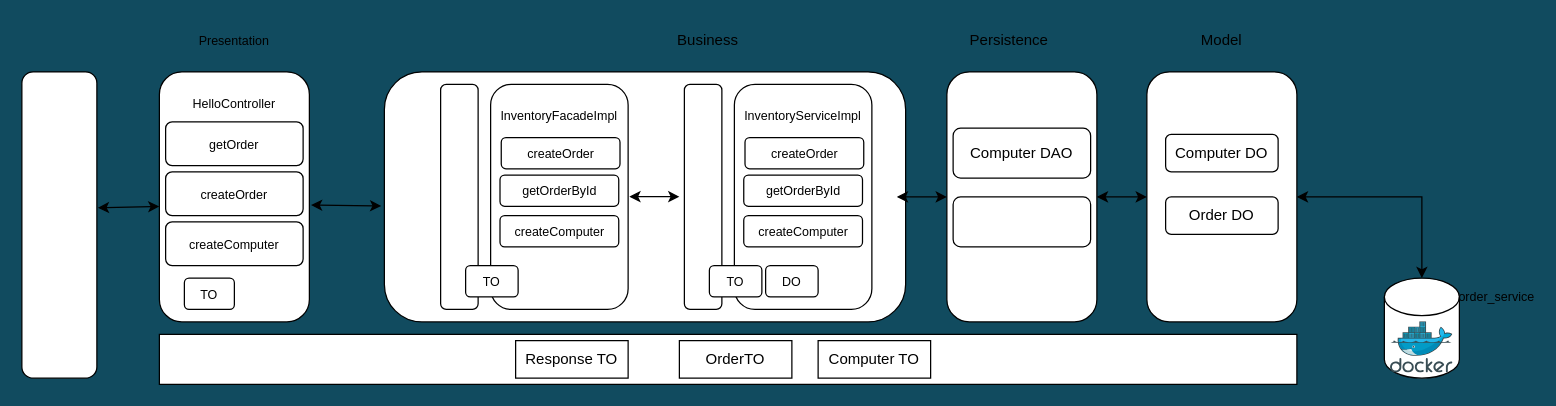
Some shapes in this 1556 by 406 pixel diagram are drawn without their labels. The centre of each missing label's shape, as x and y in pixels:
"IInventoryFacade" belongs at (458,196).
"IInventoryService" belongs at (702,196).
"Order DAO" belongs at (1021,221).
"Rest" belongs at (59,224).
